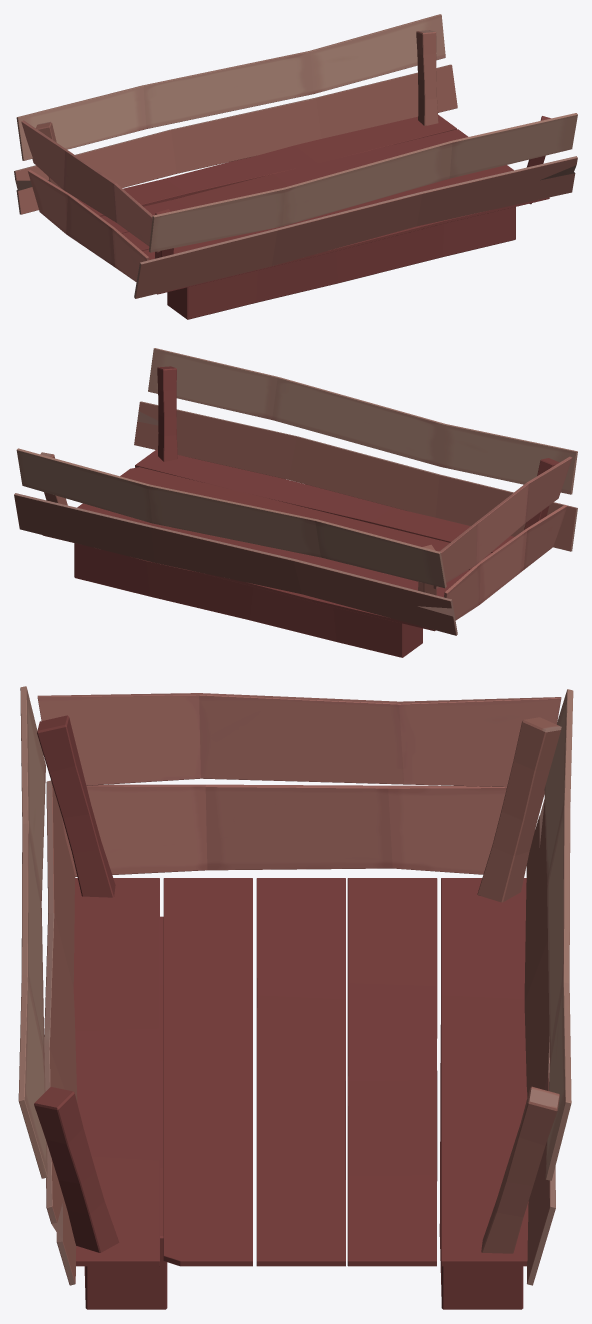
Rendered from CartFrame.obj.
3 renders of one model, top to bottom at view 1: azimuth 30°, elevation 25°; view 2: azimuth 150°, elevation 25°; view 3: azimuth 270°, elevation 25°, orthographic. The views are drawn at different scales.
Parts seen in each view (by area): view 1: CartFrame1_Cube.010; view 2: CartFrame1_Cube.010; view 3: CartFrame1_Cube.010.
Part boxes in pixels (x1,y1,x2,y2): CartFrame1_Cube.010: [14, 14, 577, 319]; CartFrame1_Cube.010: [14, 348, 577, 657]; CartFrame1_Cube.010: [18, 686, 573, 1309].
Size of the model in its own units: 1.84 by 0.5234 by 1.01.
